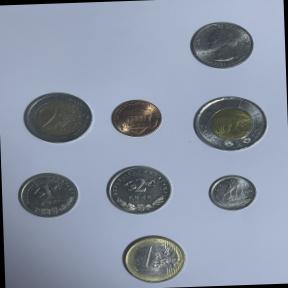coin: (186, 88, 274, 157), (17, 87, 98, 149), (183, 15, 258, 76), (100, 160, 176, 218), (116, 231, 188, 287), (106, 94, 167, 143), (204, 170, 260, 216)
